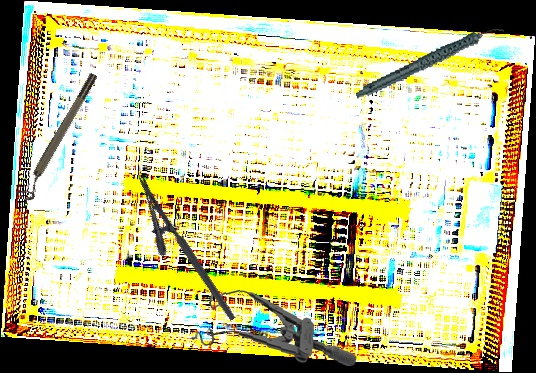Fixation Ring: (15, 71, 105, 204)
Handpiece: (348, 25, 512, 99)
Needle Holder: (118, 175, 237, 334)
Speculum: (188, 285, 362, 367)
